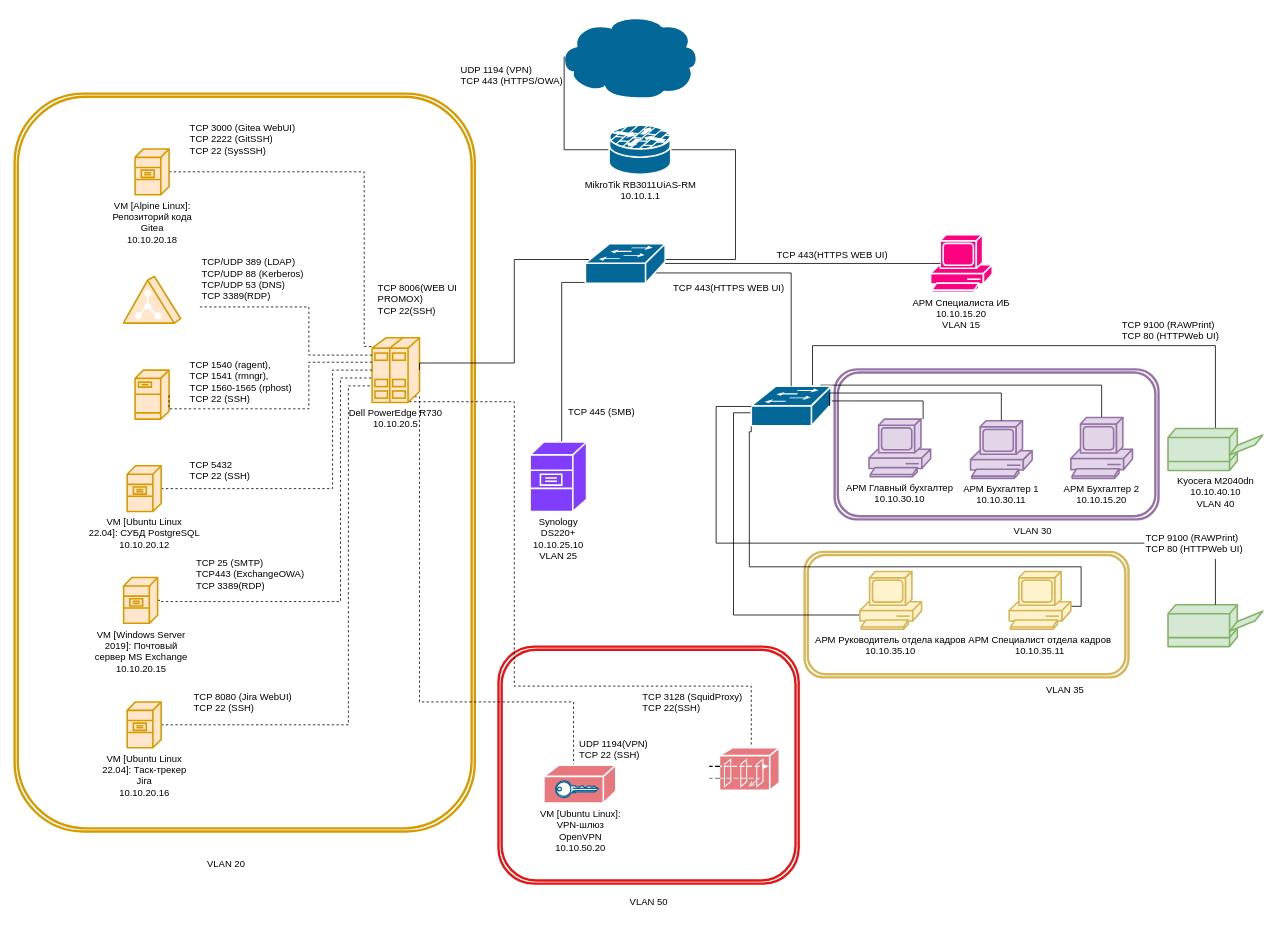
The diagram is 1277 pixels wide and 927 high, and some of its shapes have lost their labels. The centre of each missing label's shape, as x and y in pixels:
DLink DGS-1210-28 10.10.1.2 VLAN 10: pixel 625 263
DLink DGS-1210-28 10.10.10.3 VLAN 10: pixel 790 405
Pantum M7100DW 10.10.40.11 VLAN 40: pixel 1215 625
VM [Debian Linux]: Прокси-сервер Squid 10.10.50.10: pixel 744 769
VM [Ubuntu Linux 22.04]: Сервер приложений 1С 10.10.20.11: pixel 151 394
VM [Windows Server 2019]: Контроллер домена 10.10.20.10: pixel 151 299
Сеть "интеренет": pixel 628 56
